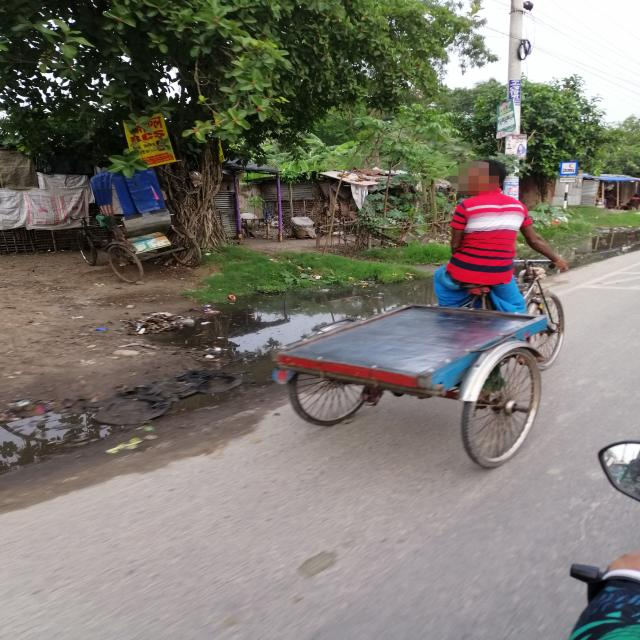Van: (266, 259, 584, 473)
